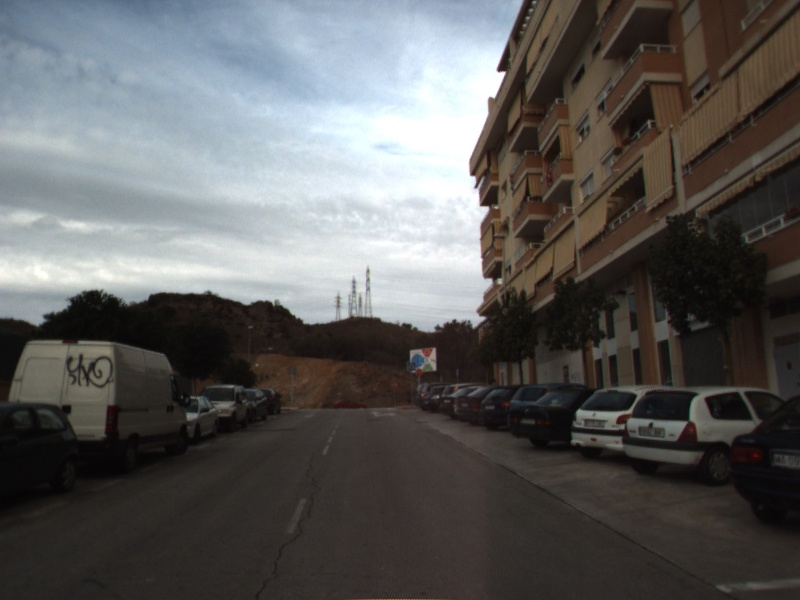STRAIGHT_RIGHT: (367, 409, 398, 419)
